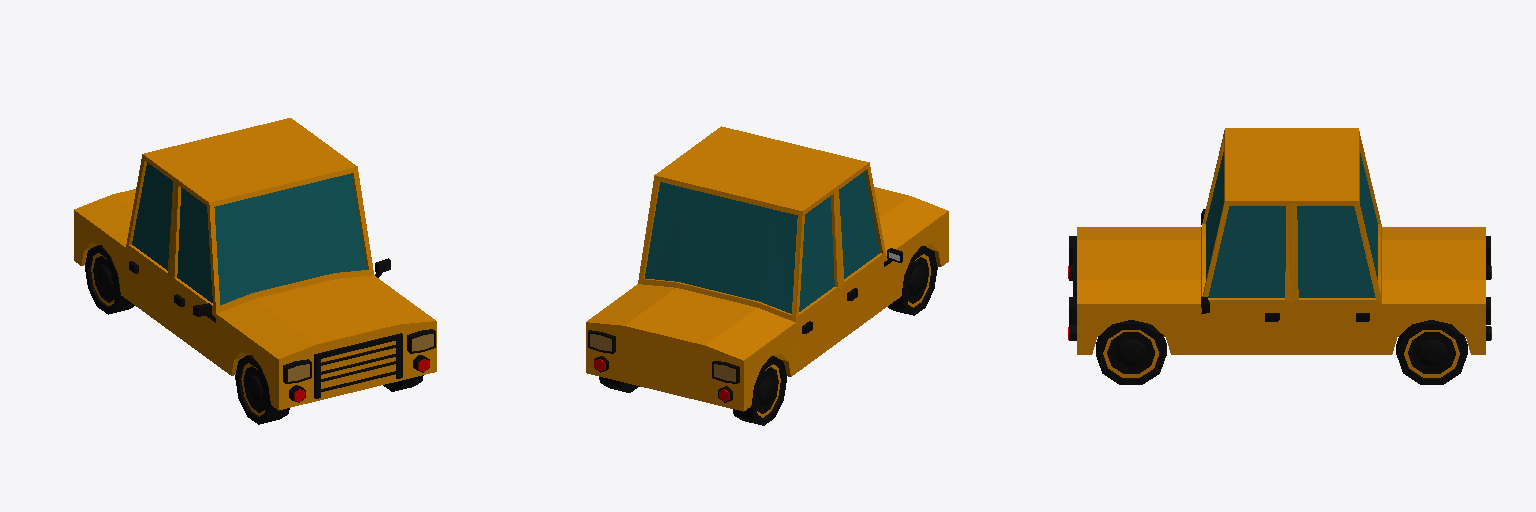
File: car3.obj
The picture shows the model from 3 angles: view 1: azimuth 30°, elevation 25°; view 2: azimuth 150°, elevation 25°; view 3: azimuth 270°, elevation 25°; orthographic projection.
Parts seen in each view (by area): view 1: Cube; view 2: Cube; view 3: Cube.
Boxes of the visible parts, <box> form: Cube: <box>74,118,436,424</box>; Cube: <box>586,126,948,425</box>; Cube: <box>1068,128,1491,384</box>.
Size of the model in its own units: 3.39 by 3.02 by 6.35.